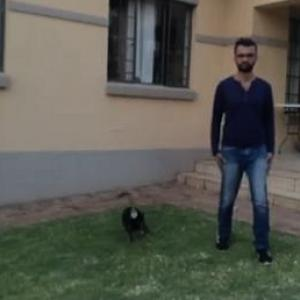follow: (208, 35, 282, 262)
